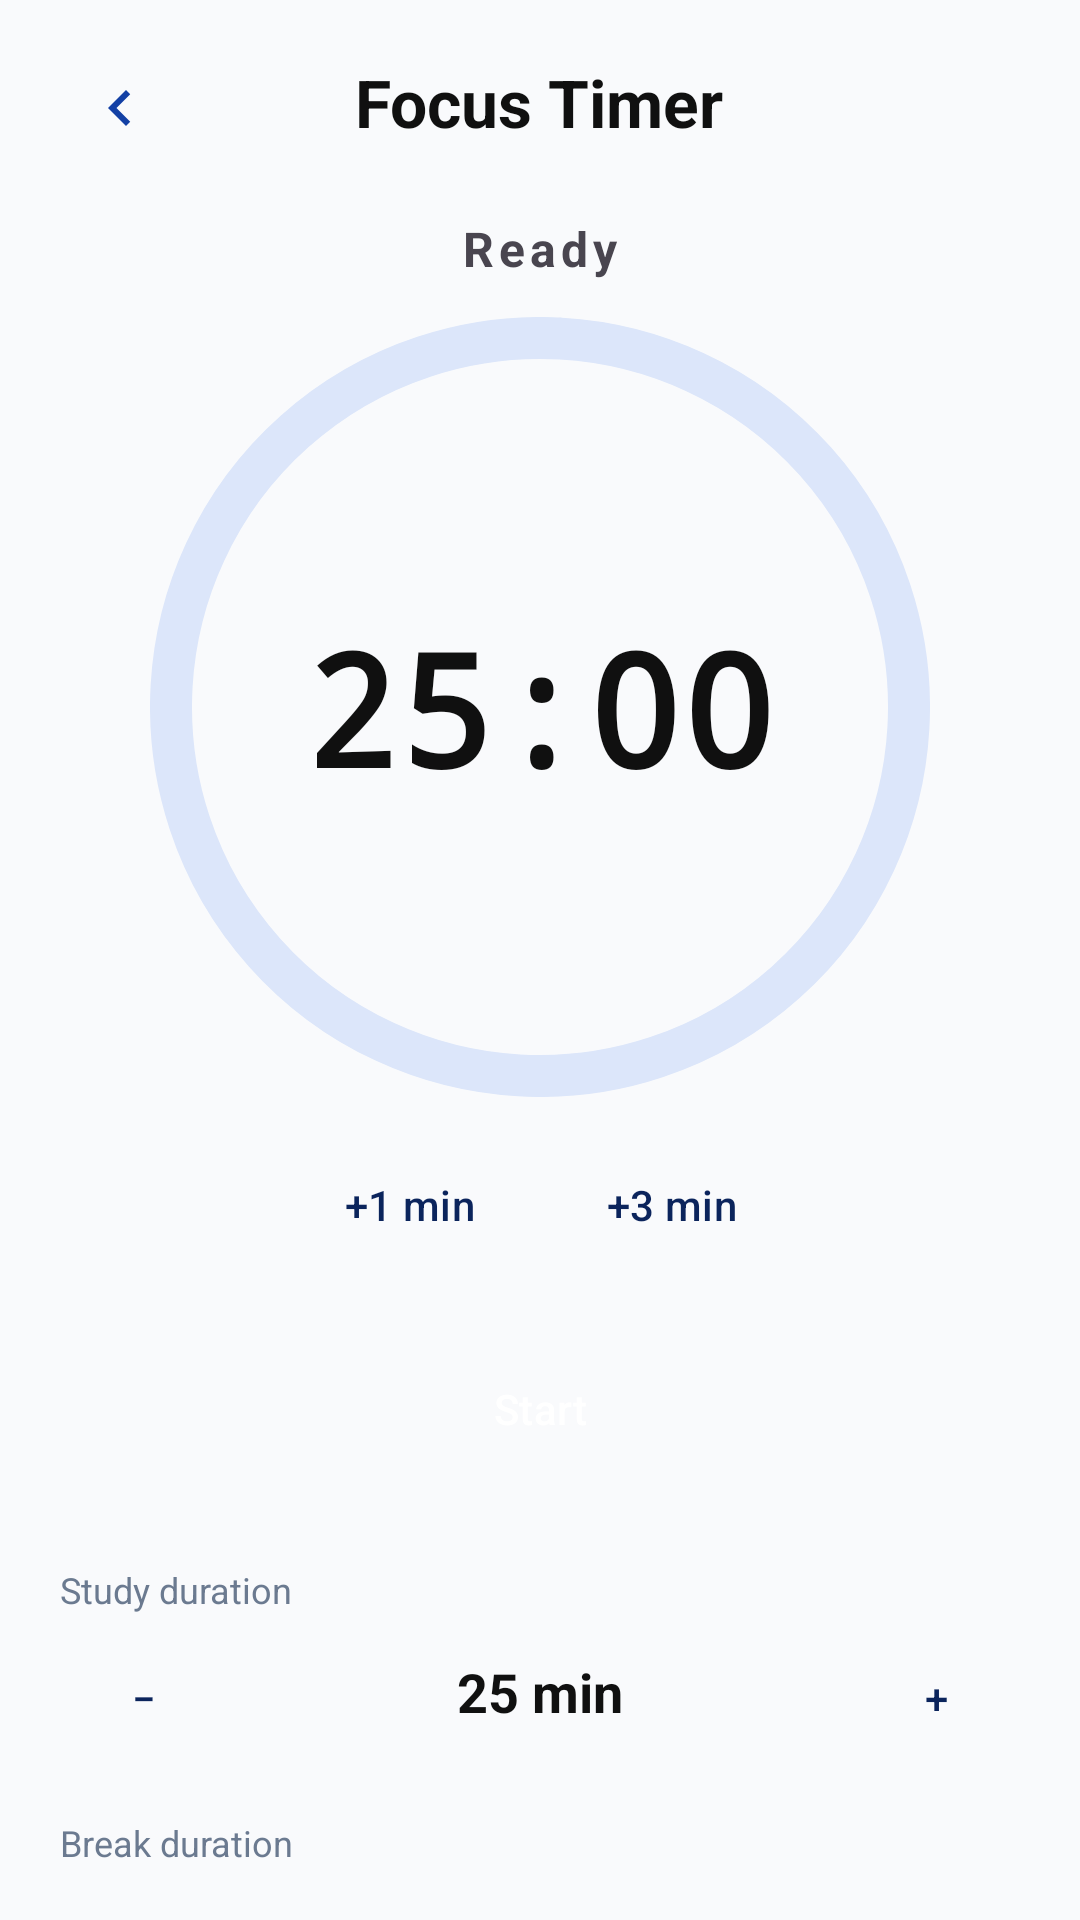

Icon click points for this 1080 x 1920 phone screenshot, format [x,y]:
Back: [119,108]
